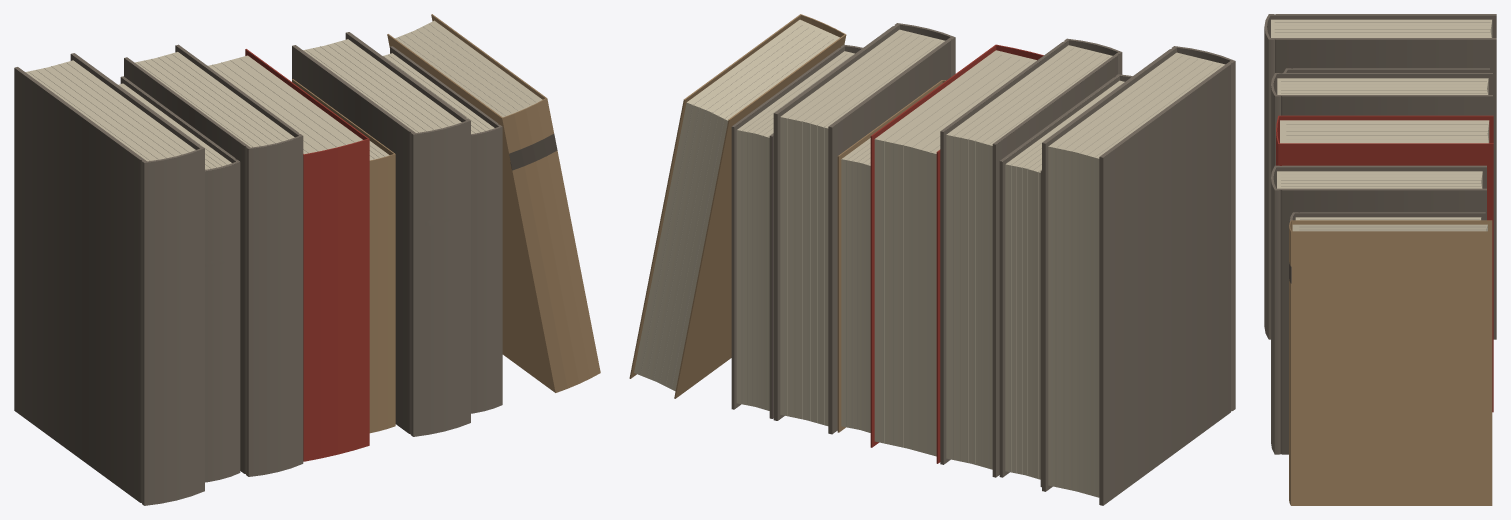
The model's file is book-row-cf1dcadd8264.glb.
3 views of the same model, side by side, from view 1: azimuth 30°, elevation 25°; view 2: azimuth 150°, elevation 25°; view 3: azimuth 270°, elevation 25° (orthographic). The views are drawn at different scales.
Visible parts, largest first — view 1: cover-cloth, paper-kraft, paper, accent-warm, cloth-cream, fabric; view 2: paper, cover-cloth, cloth-cream, paper-kraft, accent-warm; view 3: paper-kraft, cover-cloth, paper, accent-warm, cloth-cream.
Part boxes in pixels (left/top/right/bottom): cover-cloth: left=14, top=32, right=502, bottom=505; paper-kraft: left=292, top=14, right=600, bottom=433; paper: left=25, top=20, right=542, bottom=169; accent-warm: left=245, top=49, right=369, bottom=461; cloth-cream: left=29, top=23, right=535, bottom=169; fabric: left=148, top=132, right=557, bottom=170; paper: left=634, top=19, right=1225, bottom=497; cover-cloth: left=731, top=23, right=1235, bottom=505; cloth-cream: left=640, top=25, right=1220, bottom=496; paper-kraft: left=629, top=14, right=945, bottom=432; accent-warm: left=870, top=44, right=1043, bottom=463; paper-kraft: left=1289, top=220, right=1492, bottom=505; cover-cloth: left=1264, top=14, right=1496, bottom=454; paper: left=1271, top=19, right=1492, bottom=231; accent-warm: left=1276, top=115, right=1493, bottom=412; cloth-cream: left=1274, top=22, right=1491, bottom=231.
Size of the model in its own units: 0.3264 by 0.2281 by 0.1601.
